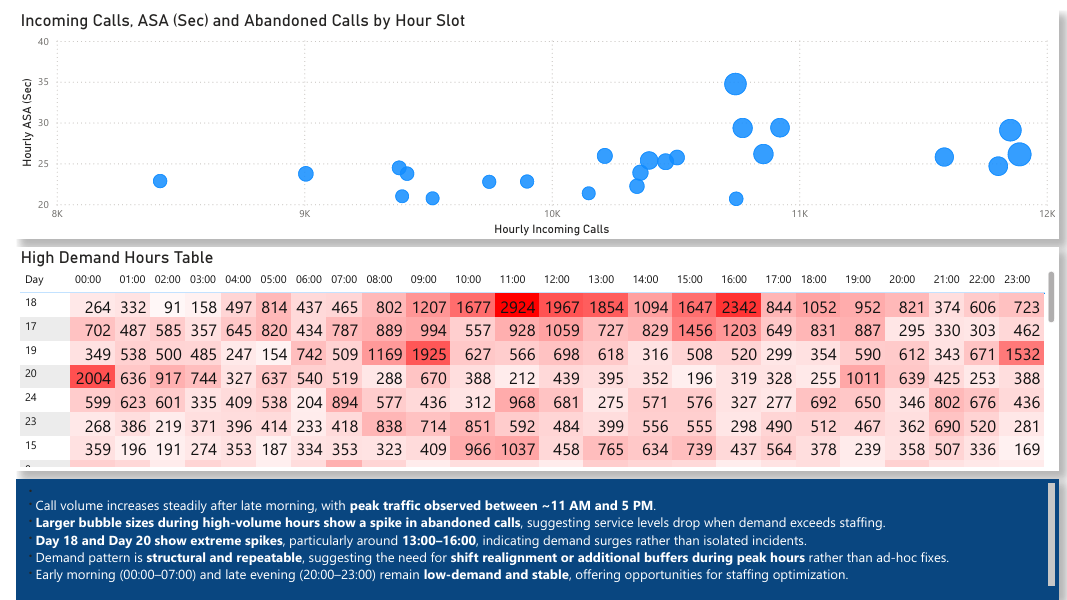

The dashboard page shown, as its layout file describes it:
{"tool":"powerbi","page":{"name":"Page 3","canvas":[1280,720],"ordinal":2},"visuals":[{"type":"scatterChart","title":"Incoming Calls, ASA (Sec) and Abandoned Calls by Hour Slot","fields":{"X":["Call Center Data.Hourly Incoming Calls"],"Y":["Call Center Data.Hourly ASA (Sec)"],"Size":["Call Center Data.Hourly Abandoned Calls"],"Category":["Call Center Data.Hour Slot"]},"box":[0,0,1270,278.6],"z":0},{"type":"pivotTable","title":"High Demand Hours Table","fields":{"Values":["Sum(Call Center Data.Incoming Calls)"],"Columns":["Call Center Data.Hour Slot"],"Rows":["Call Center Data.Date.Variation.Date Hierarchy.Day"]},"box":[0,288.6,1270,272.9],"z":1000},{"type":"textbox","box":[0,571.4,1270,148.6],"z":1001}]}

Visuals, with their boxes in screenshot pixels (x1, y1, x2, y2), scaled from the page's 1280x720 canvas onto the 1067x600 screenshot:
"Incoming Calls, ASA (Sec) and Abandoned Calls by Hour Slot" scatterChart: [0,0,1059,232]
"High Demand Hours Table" pivotTable: [0,241,1059,468]
textbox: [0,476,1059,599]
